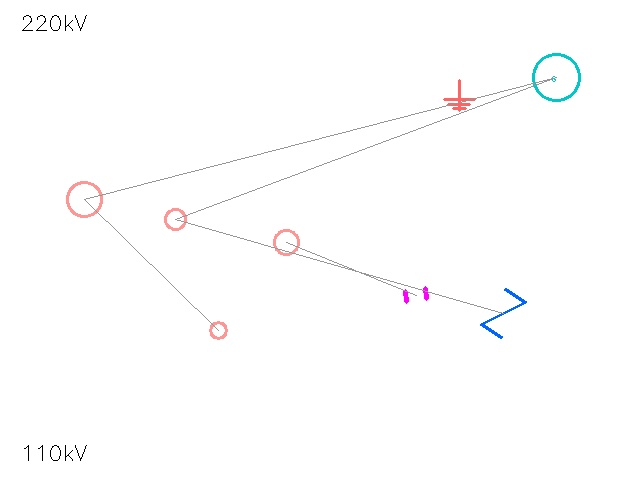capacitor: (399, 278, 433, 312)
circuit_breaker: (479, 289, 527, 337)
current_transformer: (50, 165, 118, 233)
feeder_terminal: (154, 198, 196, 240)
fuse: (262, 218, 310, 266)
generator: (533, 54, 579, 100)
ground: (444, 80, 474, 110)
reactor: (201, 313, 235, 347)
